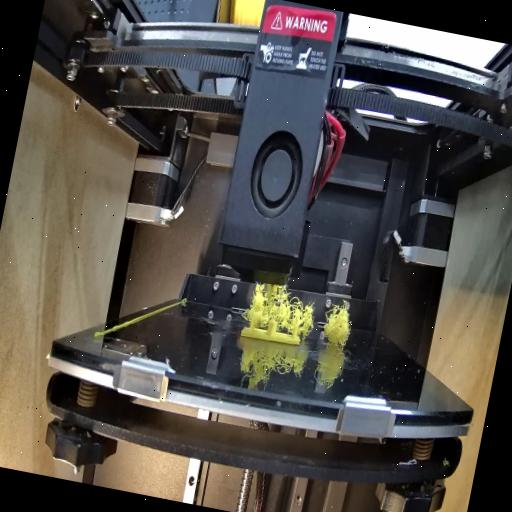spaghetti: (244, 279, 321, 335), (322, 304, 355, 350)
